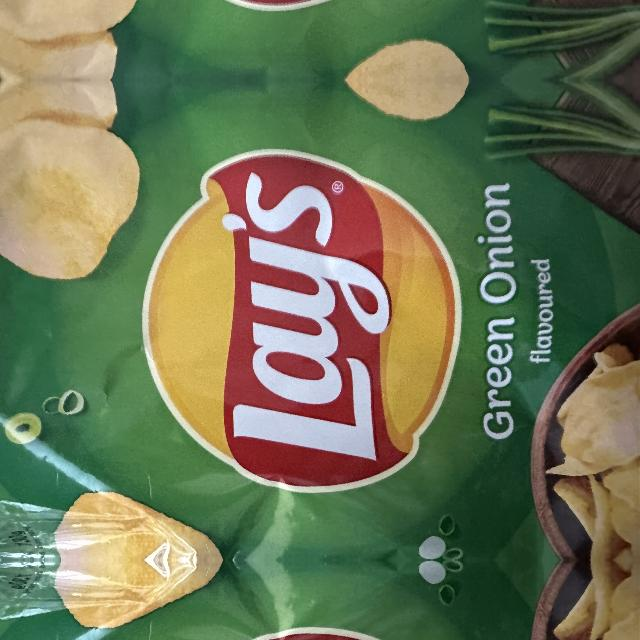lays: (143, 148, 464, 495)
